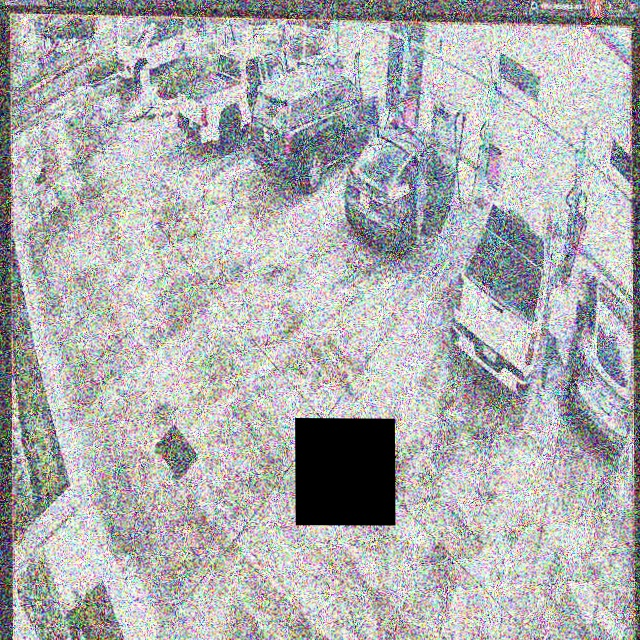Car: (450, 170, 555, 395), (250, 65, 378, 189), (346, 122, 454, 247)
